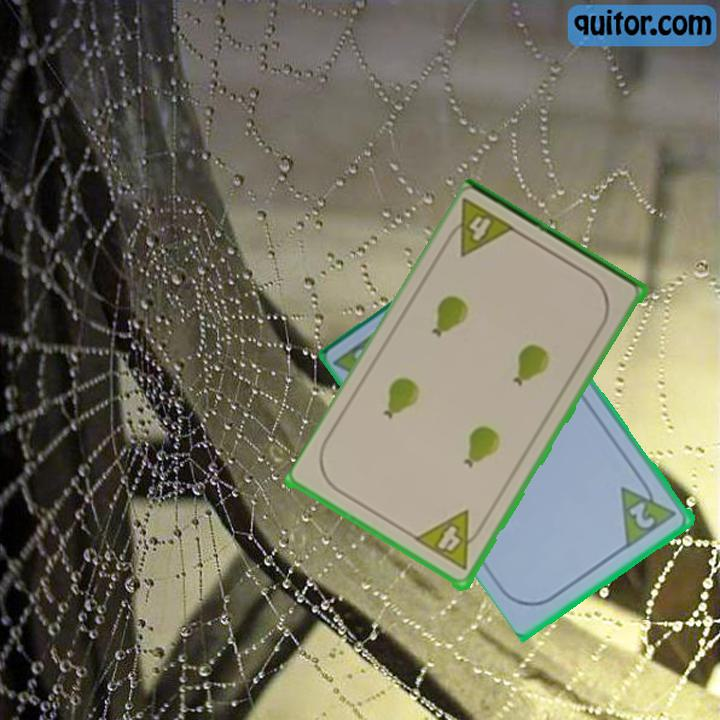2p: (617, 472, 681, 550)
4p: (439, 195, 520, 261), (412, 507, 489, 574)
